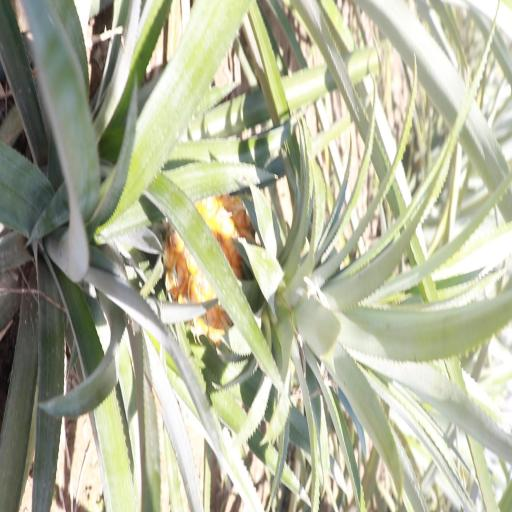Pineapple - v8 v1: (167, 199, 381, 371)
